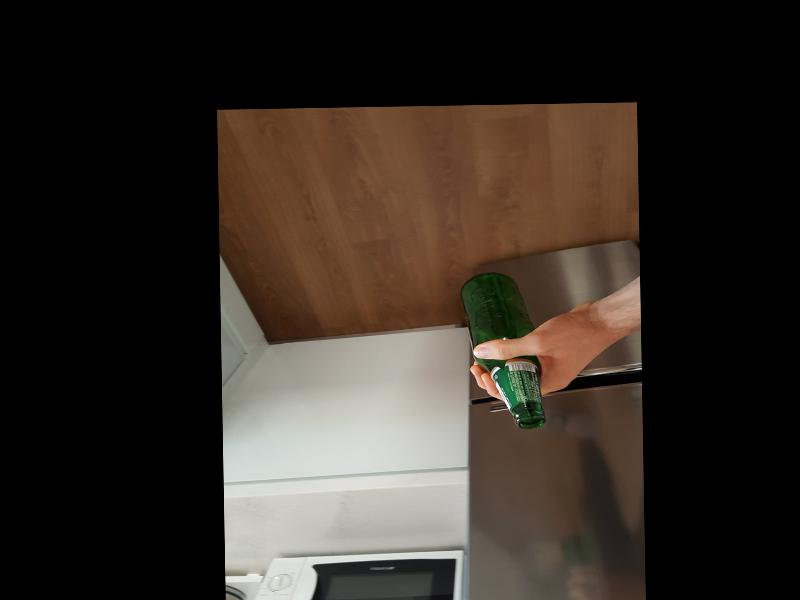Beer: (462, 271, 545, 429)
